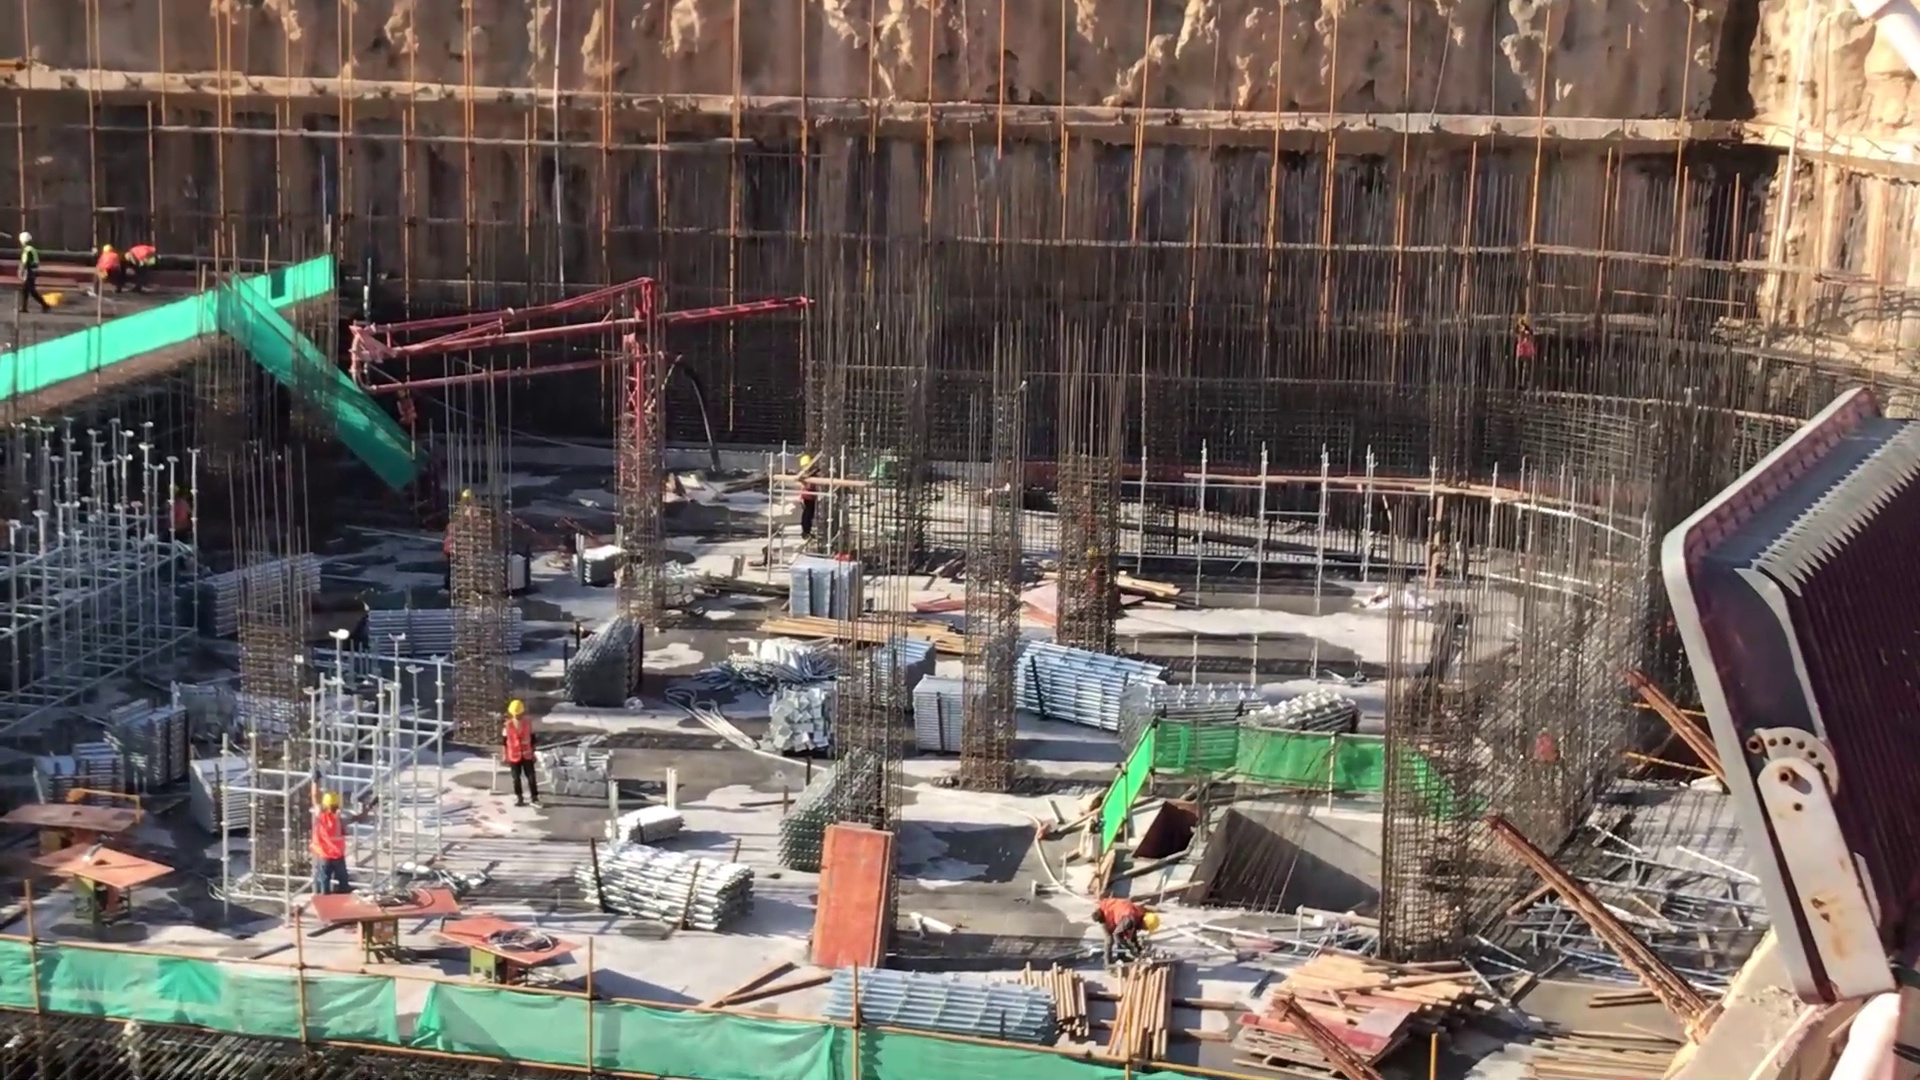board: (805, 813, 901, 971), (1232, 993, 1423, 1058)
helmet: (320, 789, 342, 821), (506, 699, 530, 719), (1144, 901, 1156, 939), (794, 451, 816, 471), (17, 230, 34, 247), (99, 245, 114, 253)
person: (488, 697, 549, 822), (1092, 889, 1163, 972), (308, 782, 356, 906), (10, 227, 51, 327), (793, 453, 828, 558), (86, 239, 126, 309), (125, 239, 173, 294), (394, 384, 423, 447)
scaffold: (811, 955, 1059, 1062), (766, 730, 898, 891), (573, 837, 770, 941), (1241, 681, 1366, 803), (1013, 641, 1168, 739), (1119, 673, 1261, 770), (191, 557, 348, 635), (551, 613, 661, 706), (363, 602, 540, 659), (109, 688, 186, 796), (33, 732, 116, 819), (869, 632, 943, 726), (187, 753, 266, 839)
vest: (1093, 894, 1145, 950), (313, 811, 351, 867), (502, 718, 540, 772), (15, 244, 38, 285), (395, 397, 418, 428), (97, 251, 120, 275), (131, 242, 155, 264)
wood: (1520, 1026, 1699, 1080)
